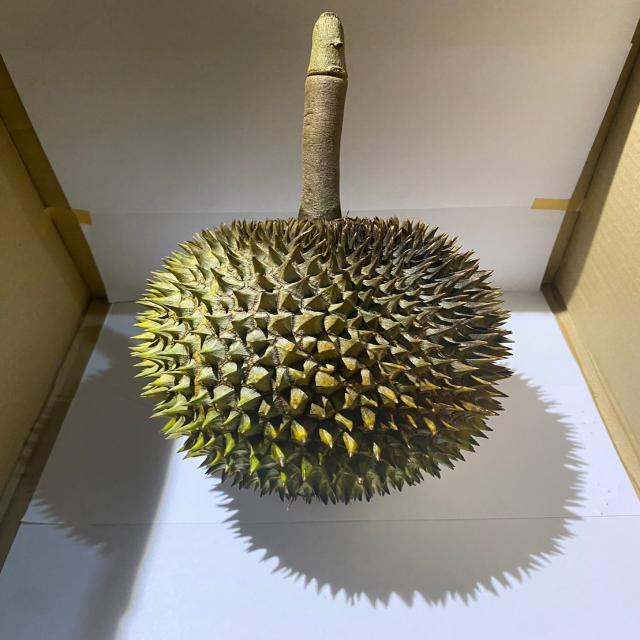immature: (127, 211, 523, 509)
